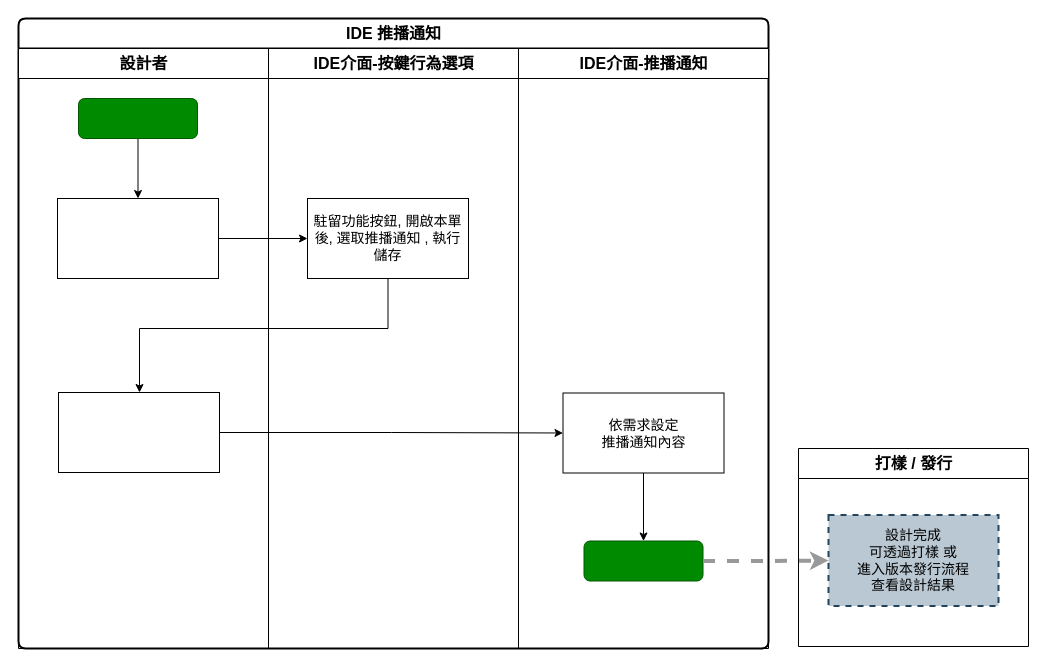
Image size: 1046x666. Some labels were removed from this diagram. Here are the shapes that lost their labels. From the top down, the centre of each, then its label:
At pixel 138 118: "推播通知設計 (Start)".
At pixel 137 238: "依需求設計功能按鈕 進入<規格定義>，開啟<按鍵行為選項>介面".
At pixel 139 432: "在<規格定義>中駐留按鍵加註行為:推播通知，開啟<推播通知>介面".
At pixel 643 560: "推播通知設計 (End)".
